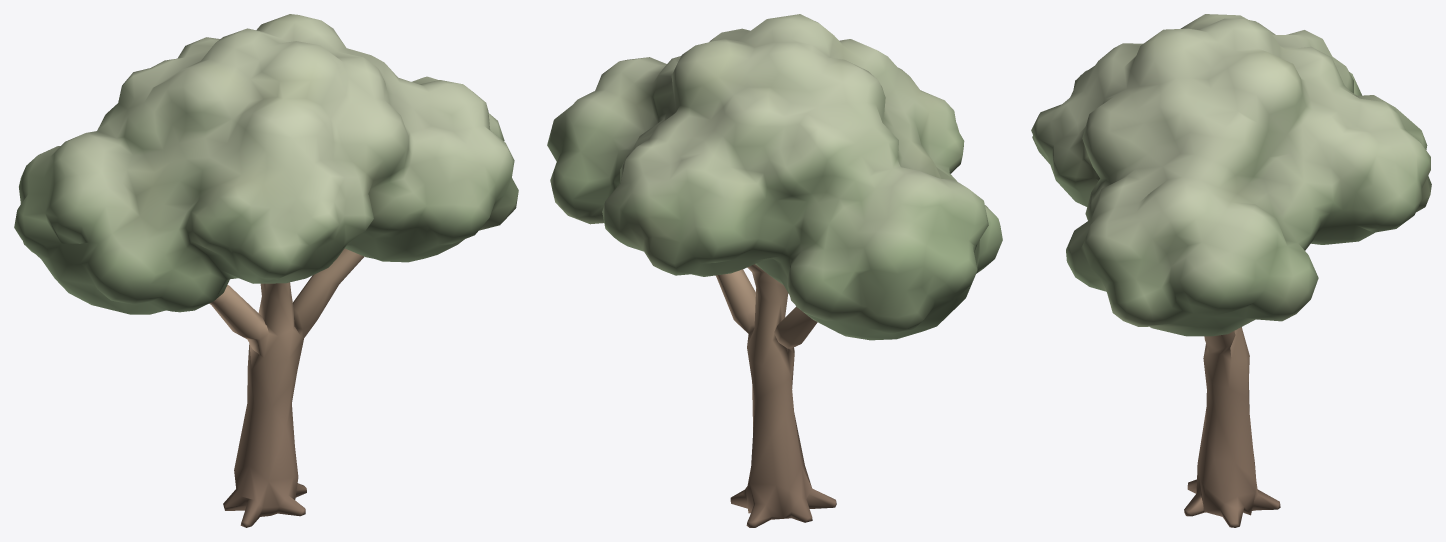
File: tree-oak-a.glb
The picture shows the model from 3 angles, left to right: view 1: azimuth 30°, elevation 25°; view 2: azimuth 150°, elevation 25°; view 3: azimuth 270°, elevation 25°; orthographic projection.
Parts seen in each view (by area): view 1: tree-oak-a; view 2: tree-oak-a; view 3: tree-oak-a.
Part boxes in pixels (x1,y1,x2,y2): tree-oak-a: [14, 14, 518, 527]; tree-oak-a: [547, 14, 1002, 527]; tree-oak-a: [1031, 14, 1431, 527].
Size of the model in its own units: 4.56 by 4.58 by 3.48.
